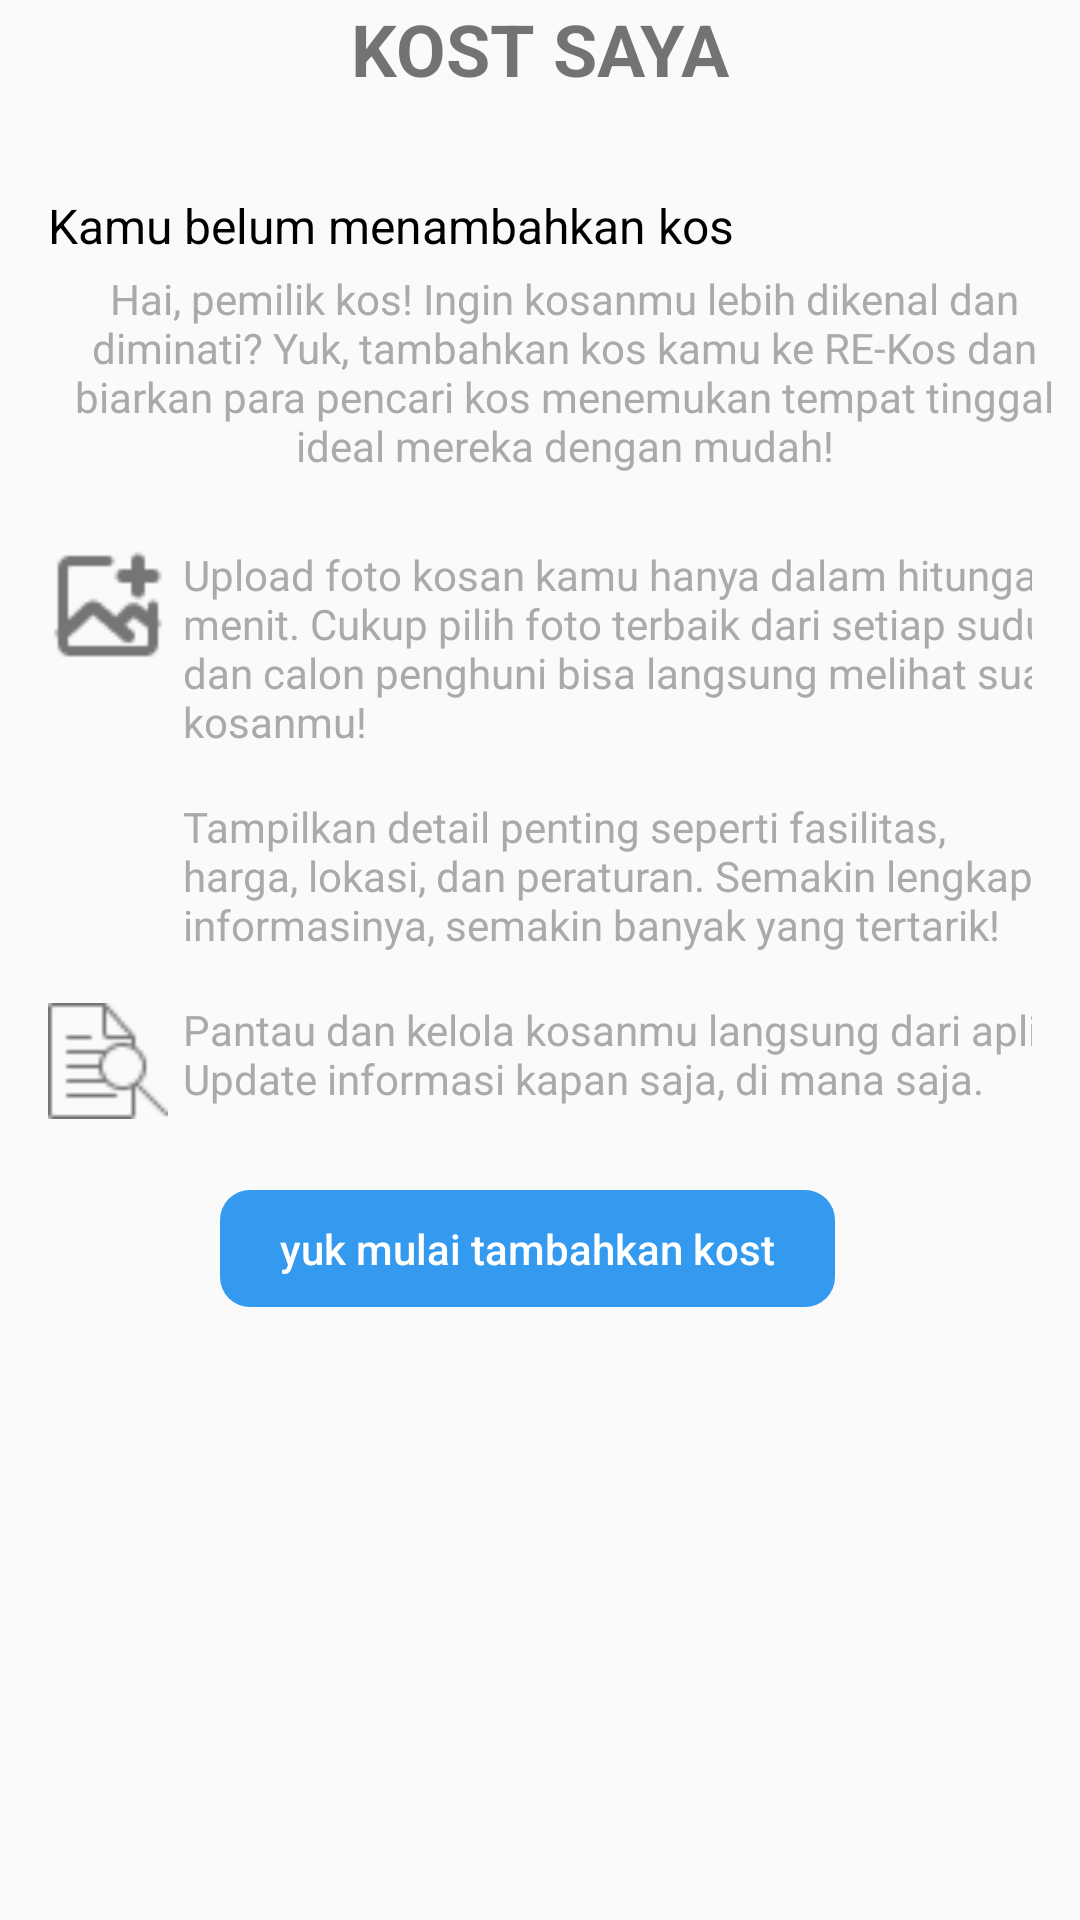

Icons on this 1080px×1920px Android screen, each with its box as (x1, y1, x2, y2):
search: (48, 1003, 168, 1119)
